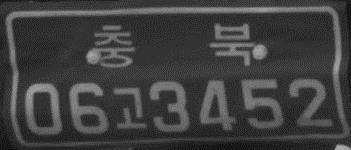0: (23, 80, 62, 138)
2: (287, 77, 333, 130)
3: (147, 78, 189, 134)
4: (196, 77, 238, 134)
5: (239, 77, 284, 131)
6: (68, 81, 110, 138)
고: (111, 84, 149, 132)
충북_D: (88, 20, 256, 71)
